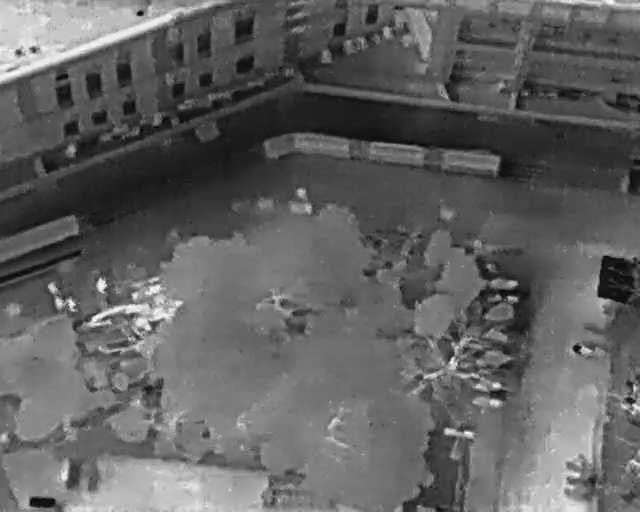Person: (45, 280, 61, 296), (95, 275, 106, 293), (53, 296, 64, 312), (67, 295, 76, 312)
